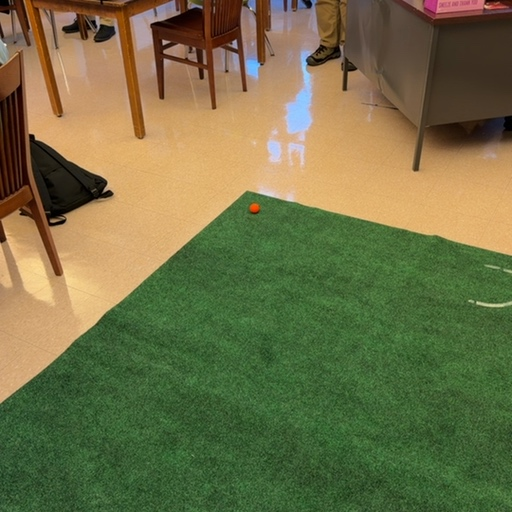Ball: (249, 203, 260, 213)
